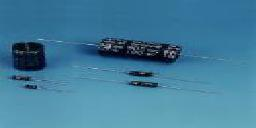Electrolytic-Capacitor: (50, 30, 228, 63), (10, 36, 46, 66), (9, 73, 79, 84), (24, 82, 77, 94), (118, 65, 165, 76), (122, 78, 166, 89)
